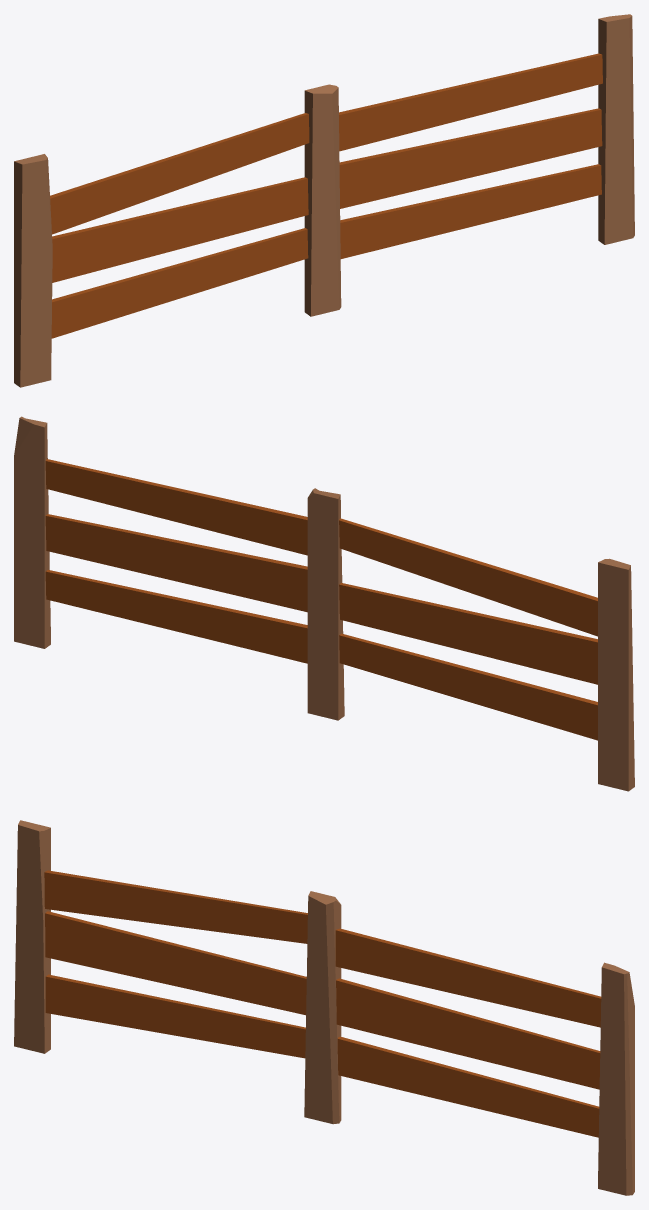
Rendered from Fence_b.FBX.
3 views of the same model, one above another, from view 1: azimuth 30°, elevation 25°; view 2: azimuth 150°, elevation 25°; view 3: azimuth 330°, elevation 25° (orthographic).
Visible parts, largest first — view 1: Fence_b; view 2: Fence_b; view 3: Fence_b.
Part boxes in pixels (x1,y1,x2,y2): Fence_b: (14,14,634,387); Fence_b: (14,416,634,791); Fence_b: (14,820,634,1195).
Size of the model in its own units: 280 by 96.2 by 6.21.
